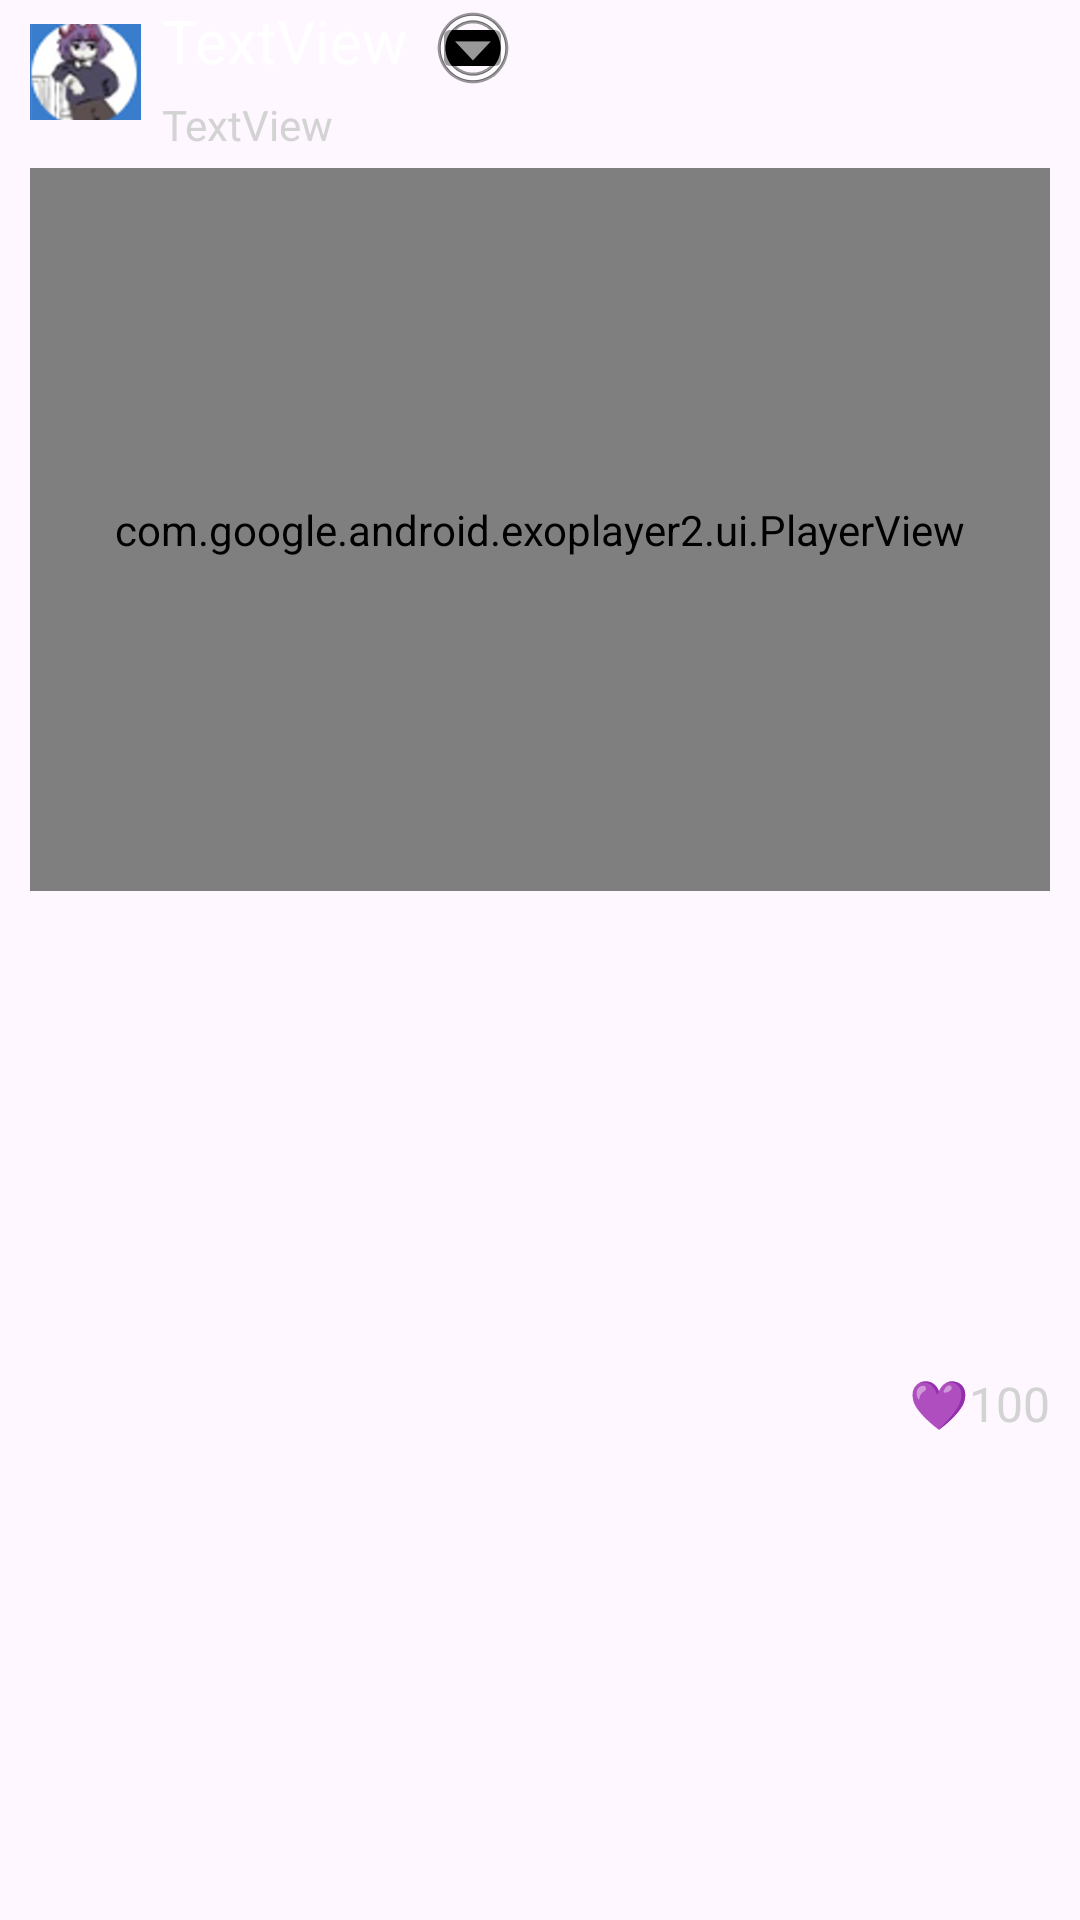

Point at icon controls on the screen. Image size 1080×1920, points as (x=x, y=y).
more: (x=473, y=48)
